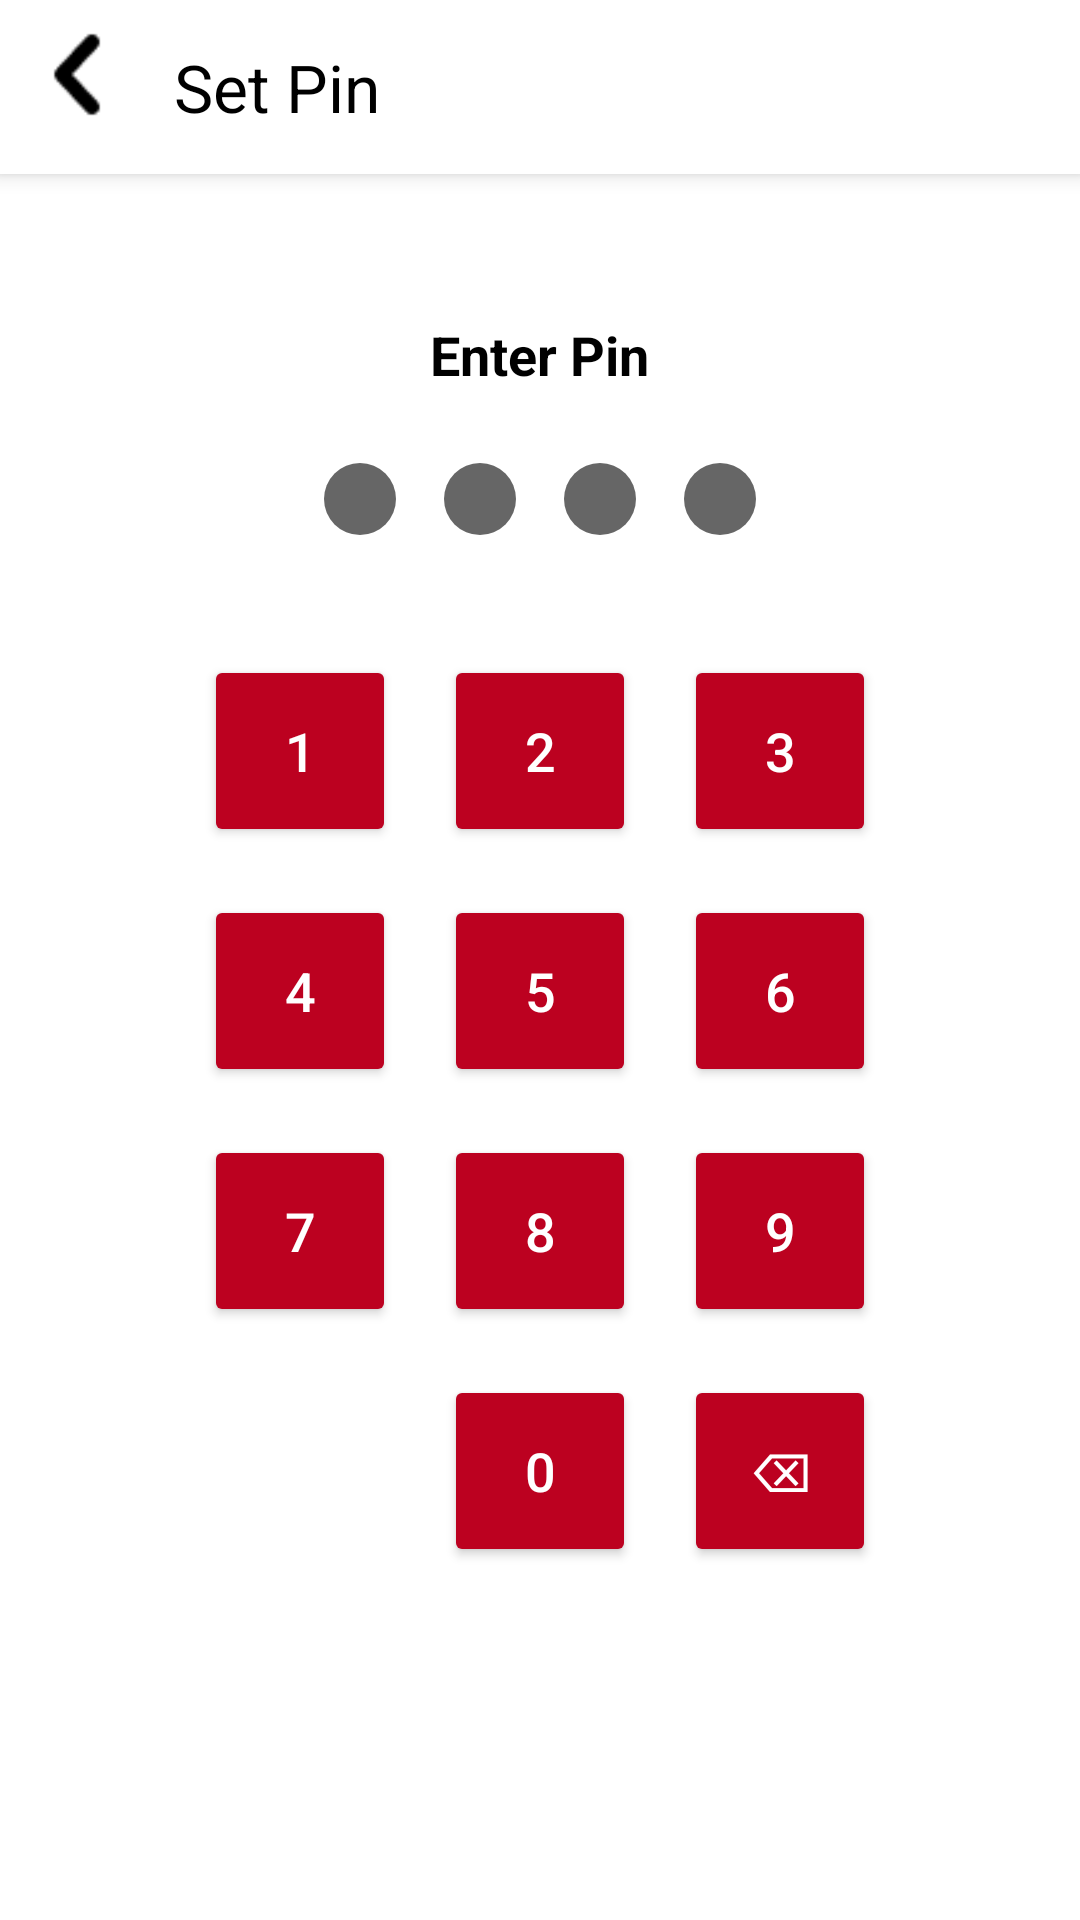

Locate icon controls on the screen. Image size 1080*1920, boxes as (x1, y1, x2, y2).
back arrow: (54, 34, 100, 115)
